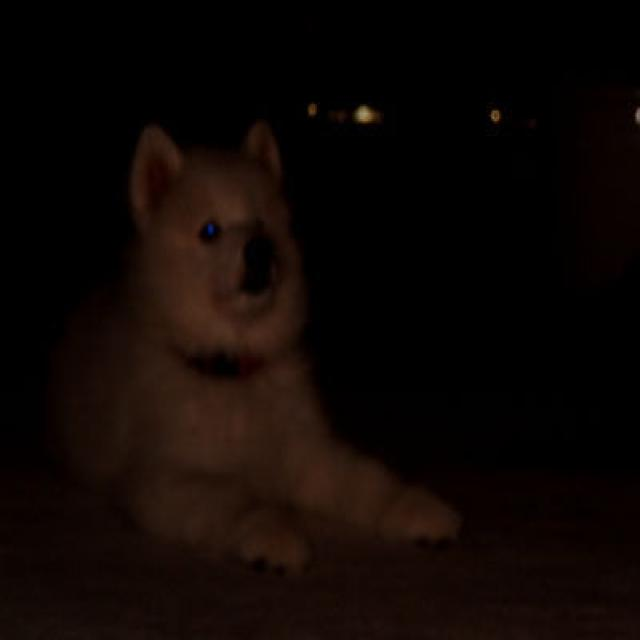Dog: (99, 50, 456, 543)
